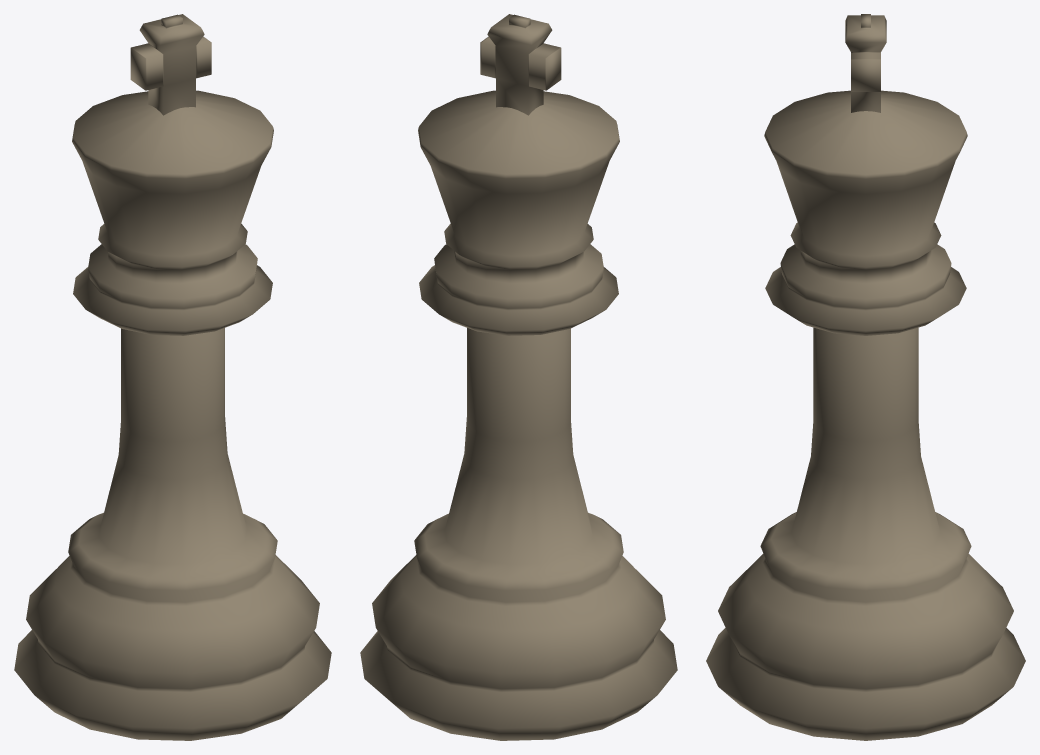
The model's file is ChessPiece.glb.
3 views of the same model, side by side, from view 1: azimuth 30°, elevation 25°; view 2: azimuth 150°, elevation 25°; view 3: azimuth 270°, elevation 25° (orthographic).
Visible parts, largest first — view 1: Plane; view 2: Plane; view 3: Plane.
Boxes of the visible parts, left/top/right/bottom form: Plane: left=14, top=14, right=331, bottom=740; Plane: left=360, top=14, right=677, bottom=740; Plane: left=706, top=14, right=1025, bottom=740.
Bounding box in the file's own units: 0.4045 × 0.9276 × 0.4045.
